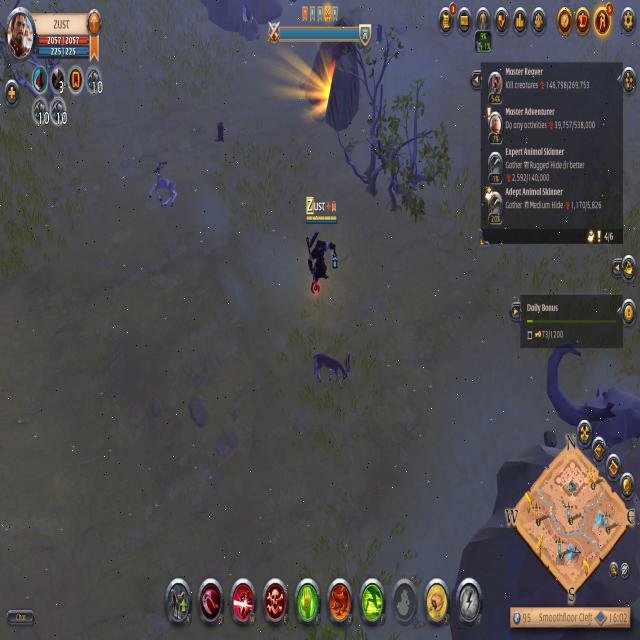deer_alive: (303, 342, 364, 403)
deer_dead: (145, 156, 182, 218)
